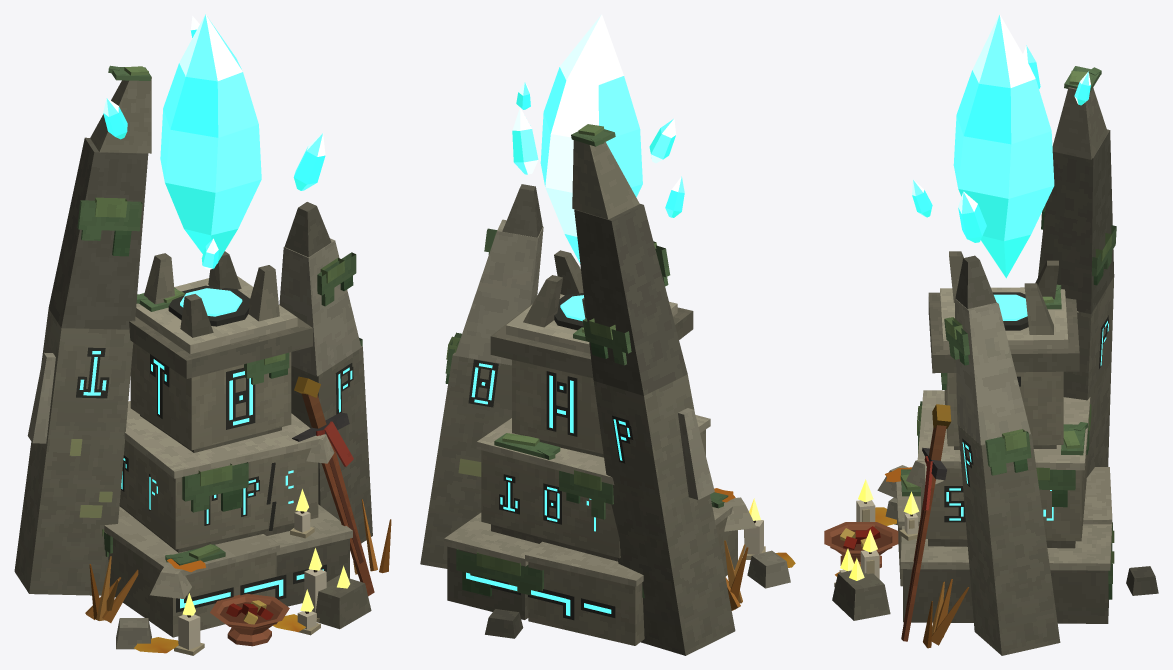
Rendered from fp_shrine.glb.
3 views of the same model, side by side, from view 1: azimuth 30°, elevation 25°; view 2: azimuth 150°, elevation 25°; view 3: azimuth 270°, elevation 25° (orthographic).
Visible parts, largest first — view 1: fp_shrine, bob_shard, glow_runes, glow_candles; view 2: fp_shrine, bob_shard, glow_runes; view 3: fp_shrine, bob_shard, glow_runes, glow_candles.
Boxes of the visible parts, x1,y1,x2,y2 form: fp_shrine: (14, 65, 391, 655); bob_shard: (103, 14, 325, 269); glow_runes: (79, 288, 352, 608); glow_candles: (182, 489, 350, 615); fp_shrine: (420, 124, 795, 655); bob_shard: (512, 14, 684, 263); glow_runes: (466, 295, 630, 615); fp_shrine: (824, 66, 1158, 655); bob_shard: (912, 14, 1090, 278); glow_runes: (946, 294, 1108, 520); glow_candles: (840, 479, 919, 580).
Size of the model in its own units: 1.66 by 2.82 by 1.5.
34 materials, 14 textured.
